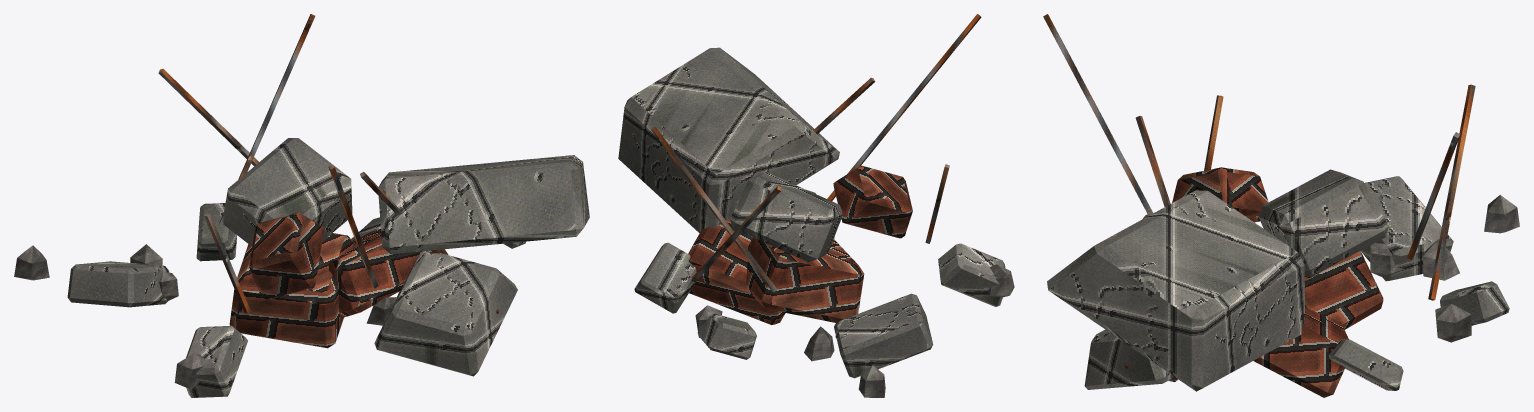
The model's file is prop_rubble.glb.
The picture shows the model from 3 angles, left to right: view 1: azimuth 30°, elevation 25°; view 2: azimuth 150°, elevation 25°; view 3: azimuth 270°, elevation 25°; orthographic projection. The views are drawn at different scales.
Parts seen in each view (by area): view 1: prop_rubble_mesh; view 2: prop_rubble_mesh; view 3: prop_rubble_mesh.
Part boxes in pixels (x1,y1,x2,y2): prop_rubble_mesh: (14, 14, 589, 397); prop_rubble_mesh: (618, 14, 1014, 397); prop_rubble_mesh: (1043, 14, 1519, 397).
Size of the model in its own units: 2.21 by 1.35 by 1.93.
Materials: 4 (4 with a texture image).
